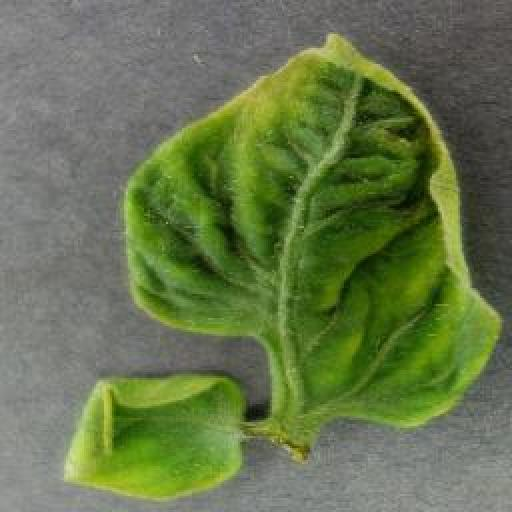disease_tomato: (119, 30, 503, 426), (62, 373, 246, 499)
